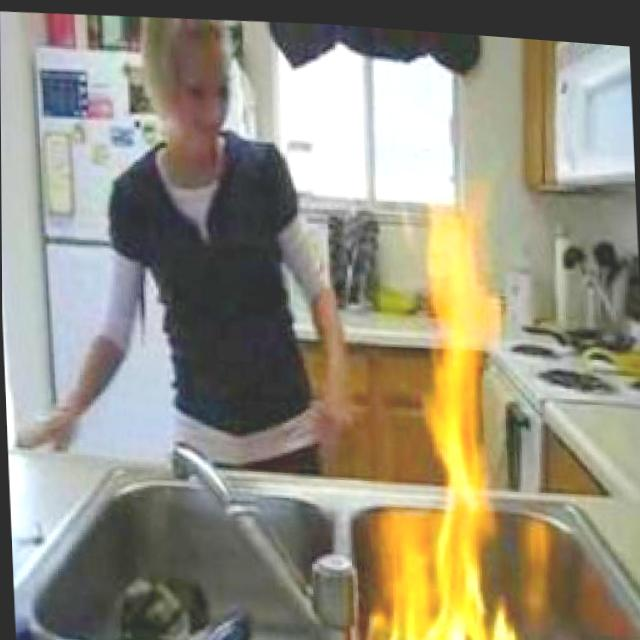helmet: (353, 194, 516, 640)
